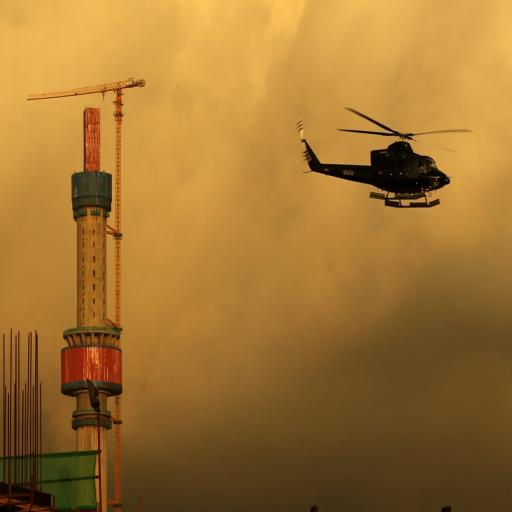helicopter: (297, 110, 473, 214)
